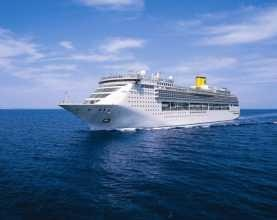youlun: (55, 69, 244, 133)
